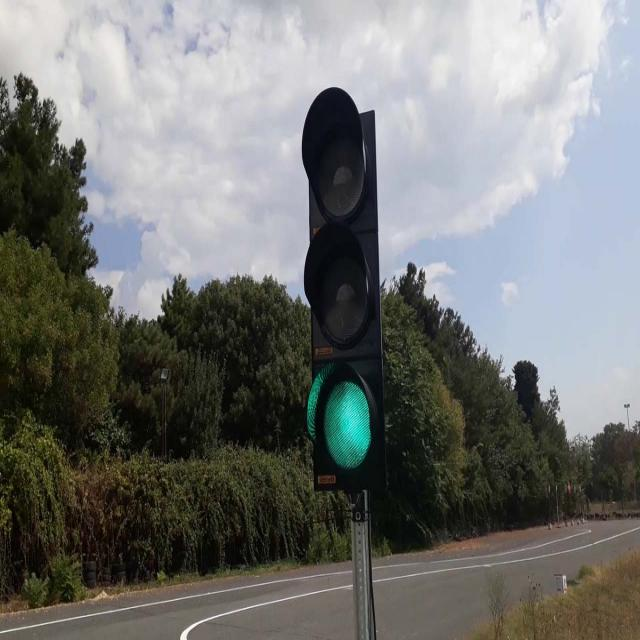yesil: (302, 92, 386, 488)
